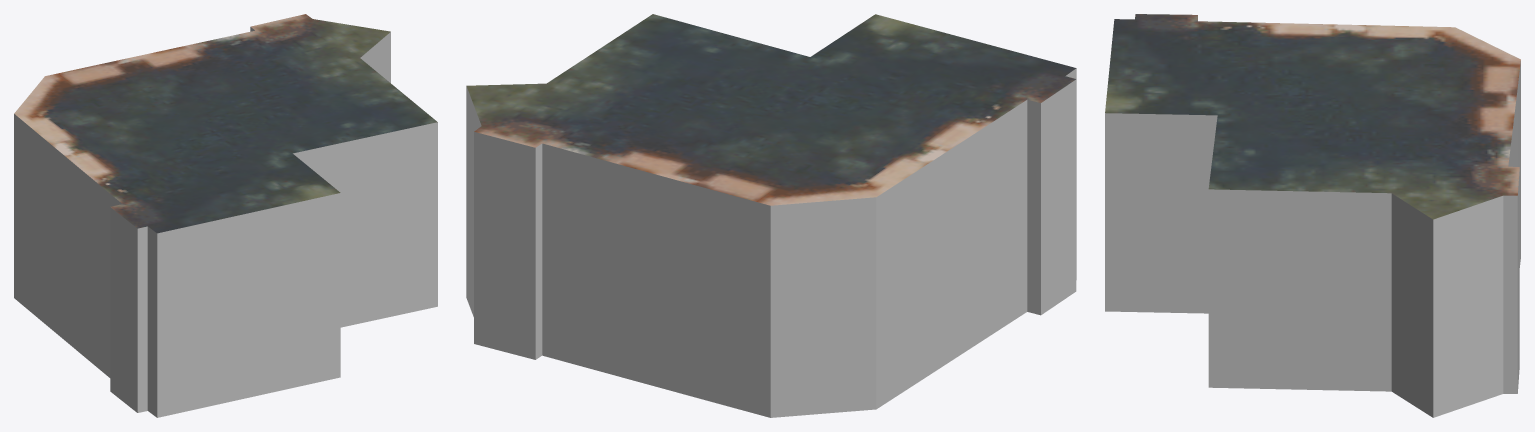
File: DEBW_0010007Tvkv.gltf
3 renders of one model, left to right at view 1: azimuth 30°, elevation 25°; view 2: azimuth 150°, elevation 25°; view 3: azimuth 270°, elevation 25°, orthographic. The views are drawn at different scales.
Parts seen in each view (by area): view 1: Z_UP; view 2: Z_UP; view 3: Z_UP.
Part boxes in pixels (x1=…): Z_UP: x1=14, y1=14, x2=437, y2=417; Z_UP: x1=466, y1=14, x2=1076, y2=417; Z_UP: x1=1105, y1=14, x2=1520, y2=417.
Bounding box in the file's own units: 29.16 × 13.12 × 24.93.
2 materials, 1 textured.
